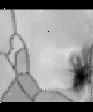good_void: (66, 47, 93, 92)
